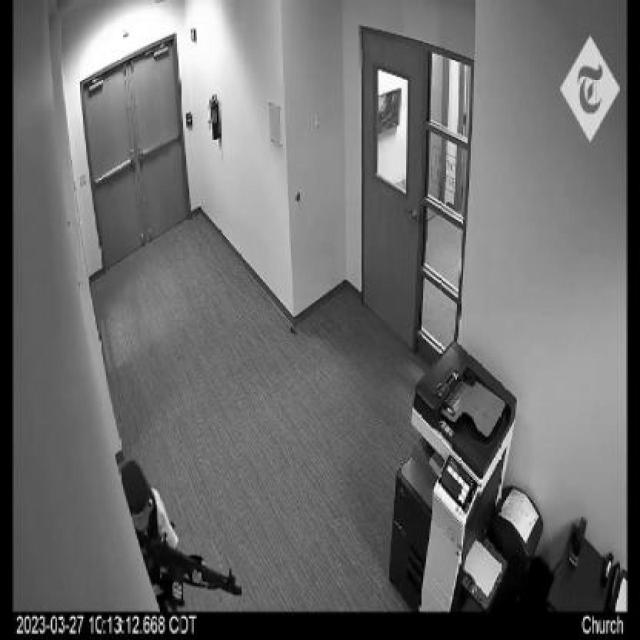weapon: (133, 529, 244, 599)
